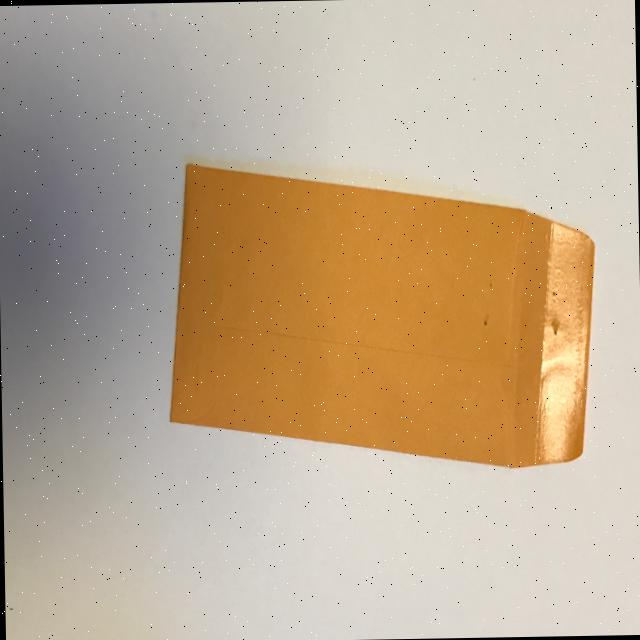paper: (164, 153, 598, 474)
